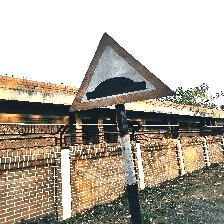Speed-breaker: (68, 32, 175, 112)
